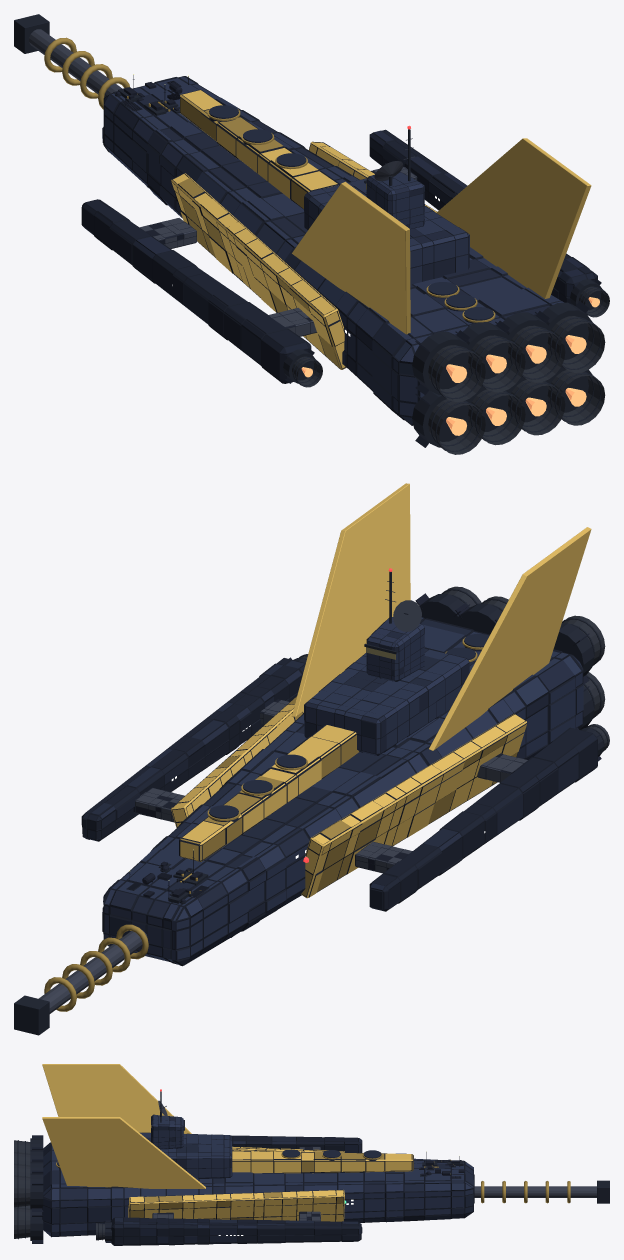
File: sovereign.glb
3 renders of one model, top to bottom at view 1: azimuth 30°, elevation 25°; view 2: azimuth 150°, elevation 25°; view 3: azimuth 270°, elevation 25°, orthographic. The views are drawn at different scales.
Visible parts, largest first — view 1: sovereign_mesh; view 2: sovereign_mesh, radar_mesh; view 3: sovereign_mesh.
Part boxes in pixels (box(x1,y1,x2,y2)): sovereign_mesh: box(14, 14, 609, 454); sovereign_mesh: box(14, 483, 609, 1035); radar_mesh: box(393, 600, 421, 631); sovereign_mesh: box(14, 1064, 609, 1245).
Size of the model in its own units: 40.97 by 27.68 by 110.
